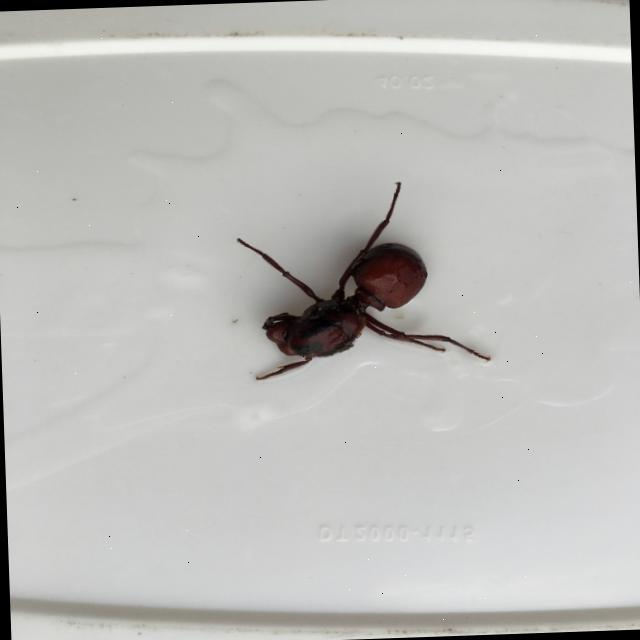Dead-Female-Dealate: (236, 178, 492, 382)
